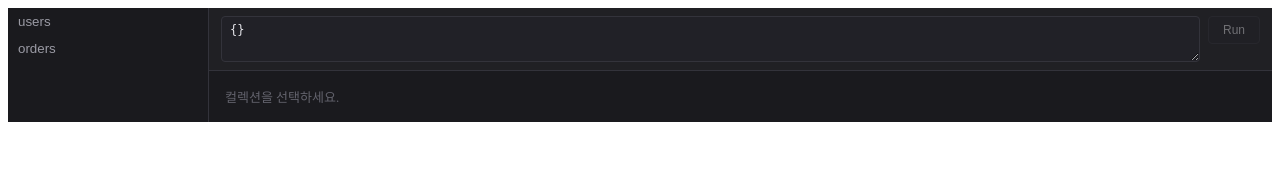
Test: DocumentsView › find가 실패하면 오류 메시지를 보여준다
The image size is (1280, 171).
What coordinates should you click on to do the following:
click the button "users"
I would click on:
 (108, 22)
Its box is [8,8,208,35].
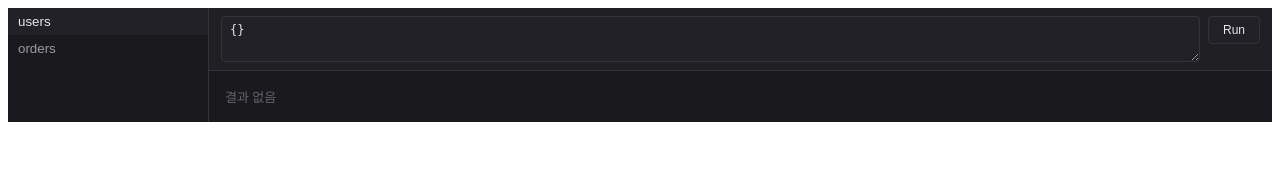
What coordinates should you click on to do the following:
click the button "Run"
I would click on:
 (1234, 30)
Its box is [1208,16,1260,44].
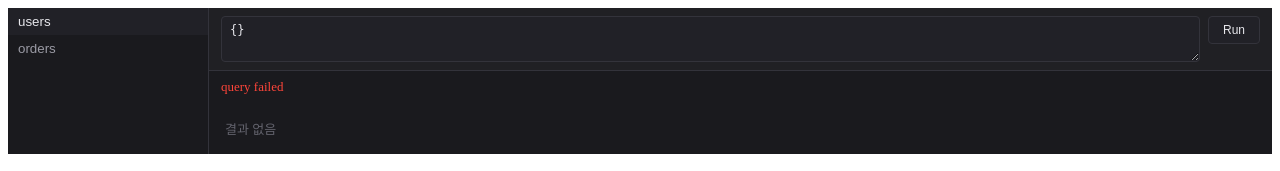
Check: the text "query failed" is shown, box [221,79,284,94]
